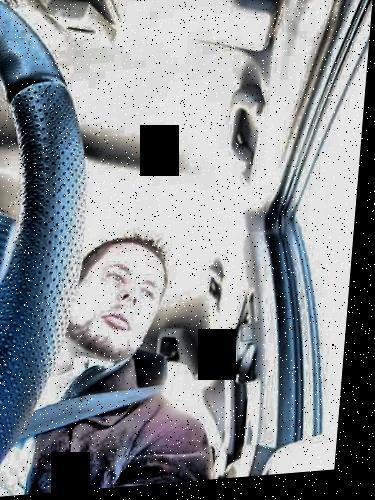seatbelt: (30, 320, 262, 467)
